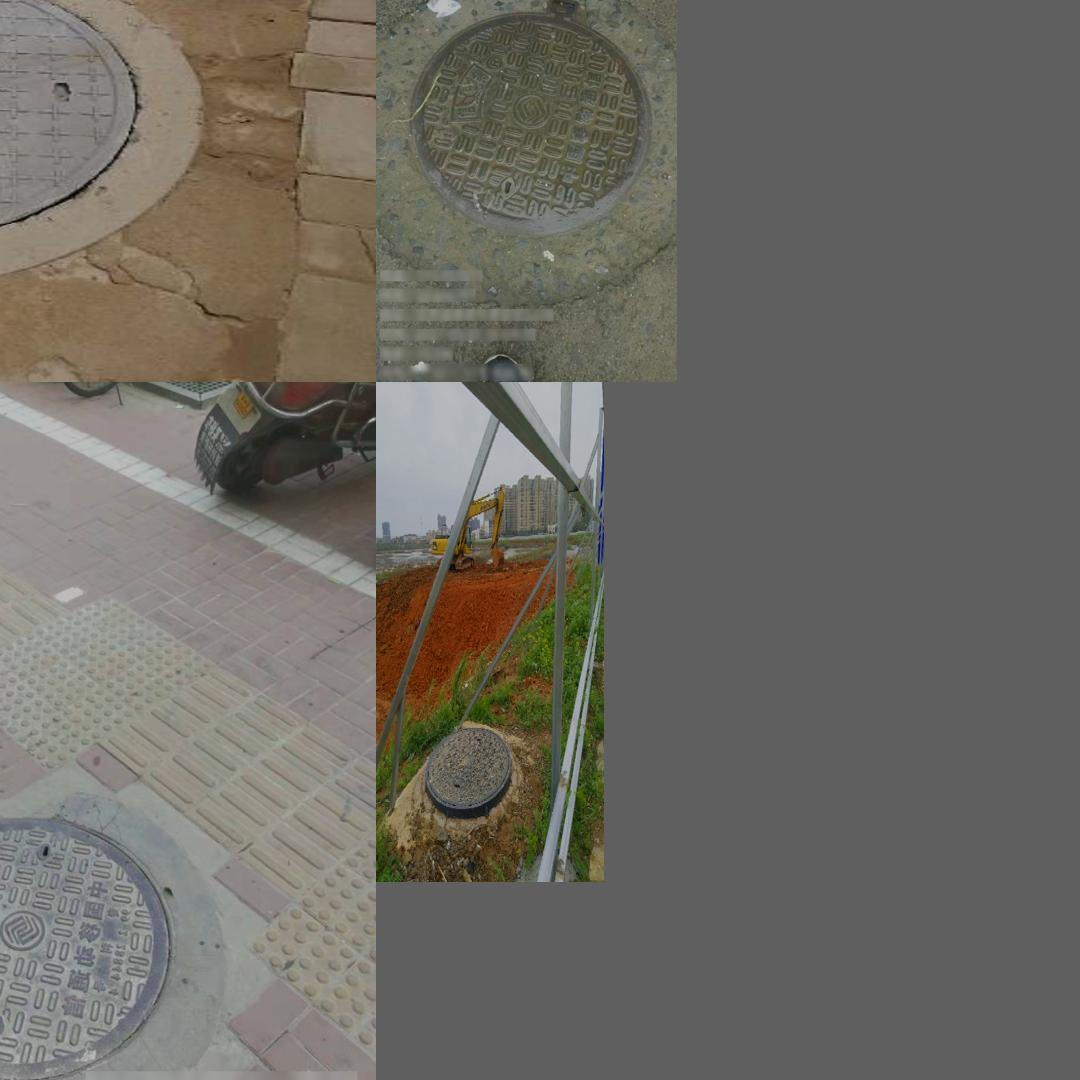good: (0, 0, 207, 303), (411, 0, 653, 239), (0, 814, 176, 1080), (426, 725, 512, 814)
